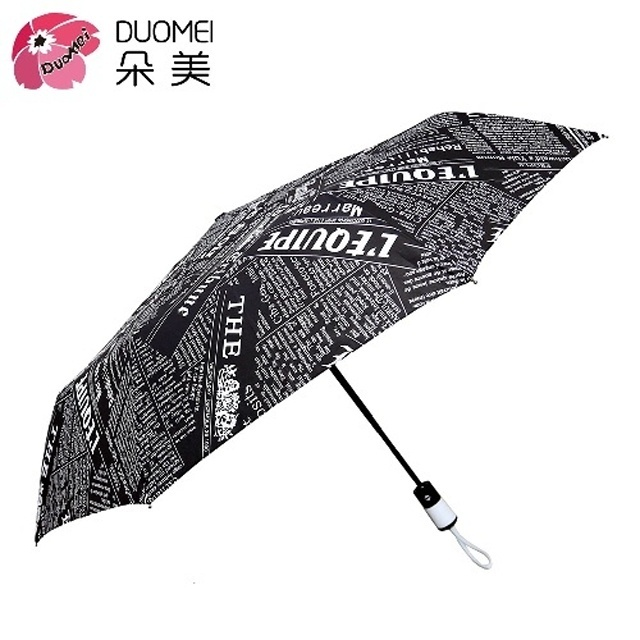umbrella: (30, 109, 614, 568)
